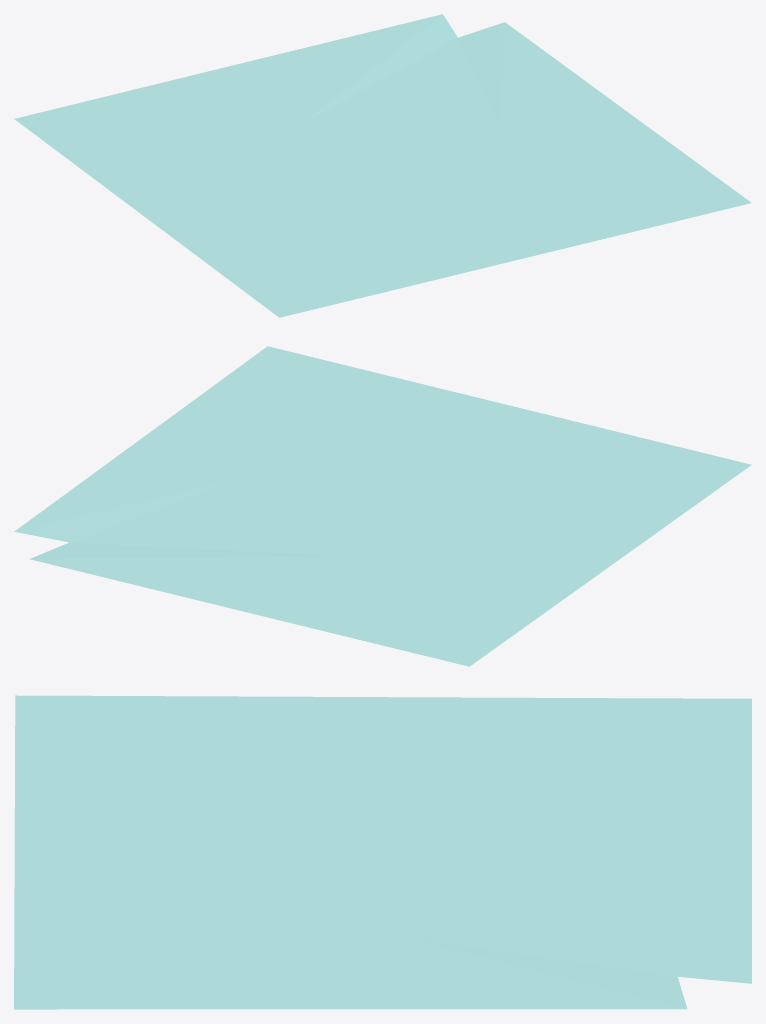
File: wavewallconvex.fbx
The picture shows the model from 3 angles, top to bottom: view 1: azimuth 30°, elevation 25°; view 2: azimuth 150°, elevation 25°; view 3: azimuth 270°, elevation 25°; orthographic projection. The views are drawn at different scales.
Visible parts, largest first — view 1: obj0.090; view 2: obj0.090; view 3: obj0.090.
Boxes of the visible parts, bbox=[...] form: obj0.090: bbox=[14, 14, 751, 317]; obj0.090: bbox=[14, 346, 751, 666]; obj0.090: bbox=[14, 695, 751, 1009].
Bounding box in the file's own units: 1.51 × 0.00225 × 1.5.
